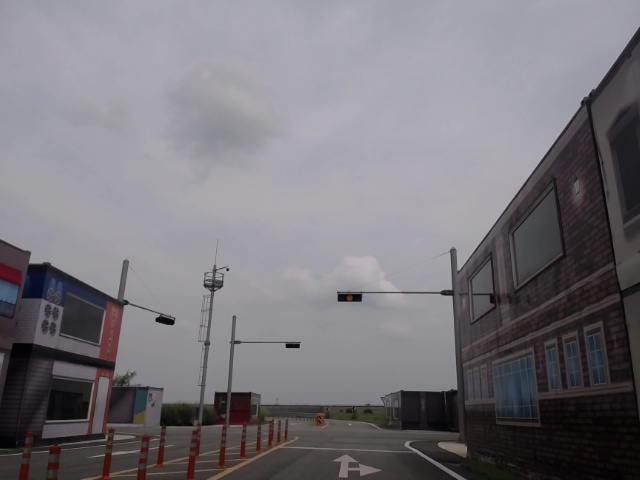orange_3: (337, 292, 362, 302)
